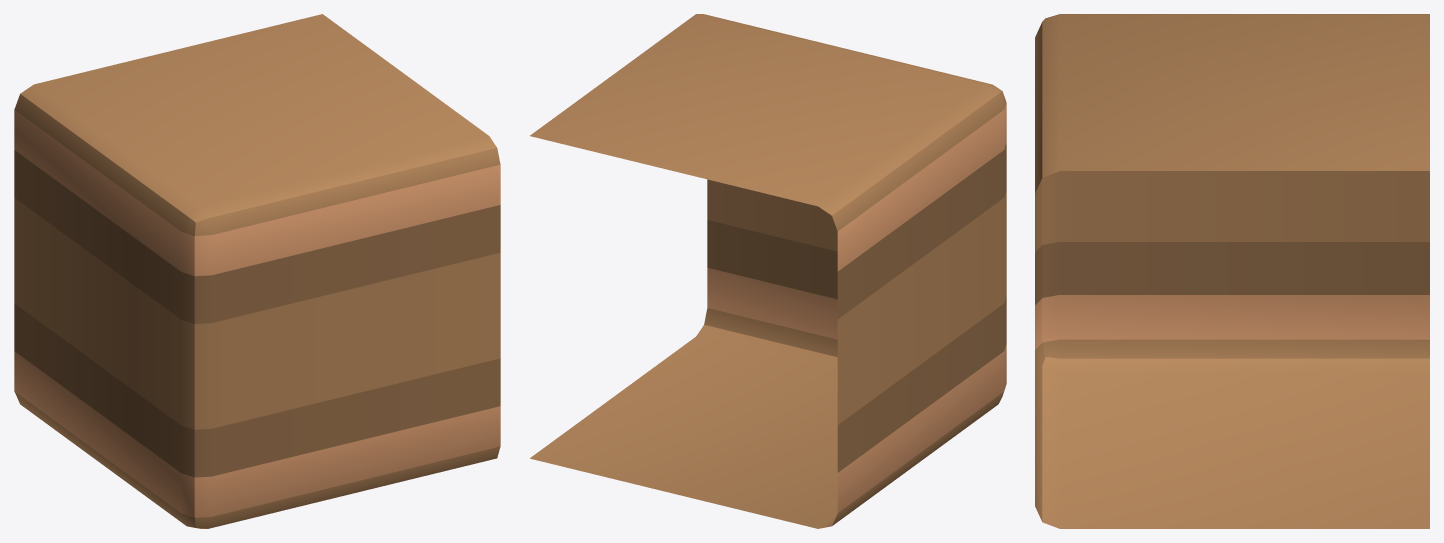
File: Cube_Dirt_Corner.gltf
3 renders of one model, left to right at view 1: azimuth 30°, elevation 25°; view 2: azimuth 150°, elevation 25°; view 3: azimuth 270°, elevation 25°, orthographic. The views are drawn at different scales.
Visible parts, largest first — view 1: Cube_Dirt_Corner; view 2: Cube_Dirt_Corner; view 3: Cube_Dirt_Corner.
Boxes of the visible parts, x1,y1,x2,y2 form: Cube_Dirt_Corner: (14,14,500,528); Cube_Dirt_Corner: (530,14,1006,528); Cube_Dirt_Corner: (1035,14,1429,528).
Size of the model in its own units: 2 by 2 by 2.
